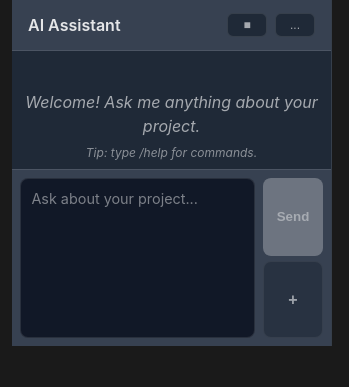
Test case: ChatPanel - Autopilot Features › Autopilot Start Safeguards › prevents starting autopilot when no project is selected
The width and height of the screenshot is (349, 387).
Step 1. Type "Need autopilot support" into the text box with test id "chat-input" → [138, 258], box [20,178,255,338]
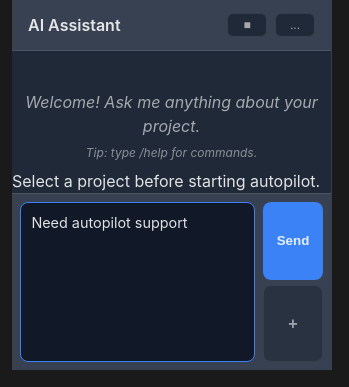
expect the text with test id "chat-error" reads "Select a project before starting autopilot.": met, box [12,171,320,191]
